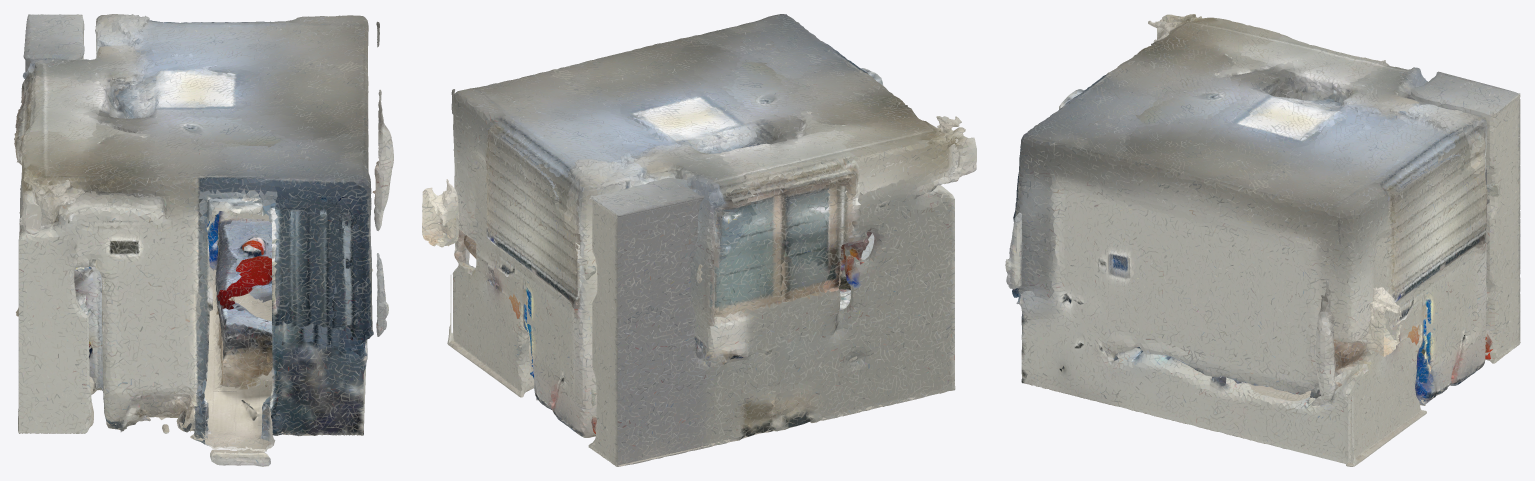
File: room_pr2.glb
3 views of the same model, side by side, from view 1: azimuth 30°, elevation 25°; view 2: azimuth 150°, elevation 25°; view 3: azimuth 270°, elevation 25° (orthographic).
Size of the model in its own units: 4.13 by 2.5 by 4.16.
2 materials, 2 textured.
